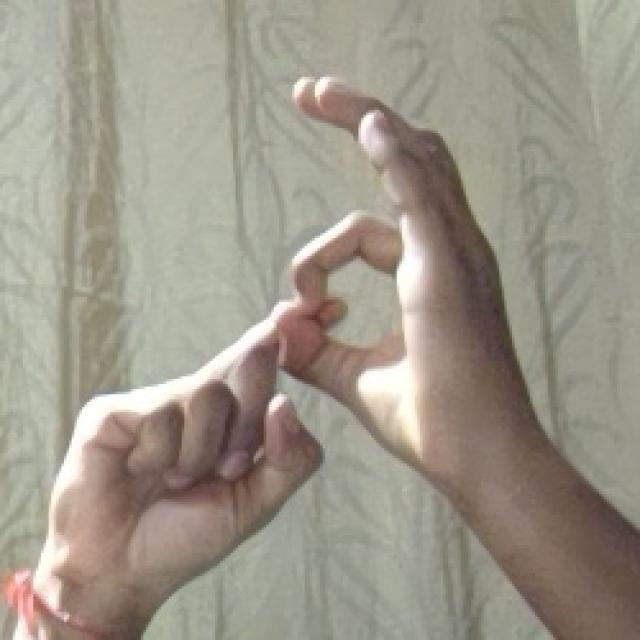Alphabet-Q: (53, 89, 542, 629)
